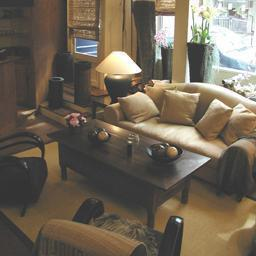Bote de Basura: (74, 63, 93, 104), (48, 71, 65, 108)
Matera: (191, 14, 219, 82), (156, 27, 174, 80)
Ventana: (193, 2, 255, 71), (73, 4, 101, 88)
